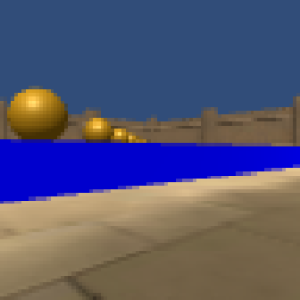goodGoalMulti: (7, 87, 67, 141), (80, 117, 111, 142), (113, 128, 129, 143), (130, 132, 140, 144)
platform: (1, 143, 300, 195)
